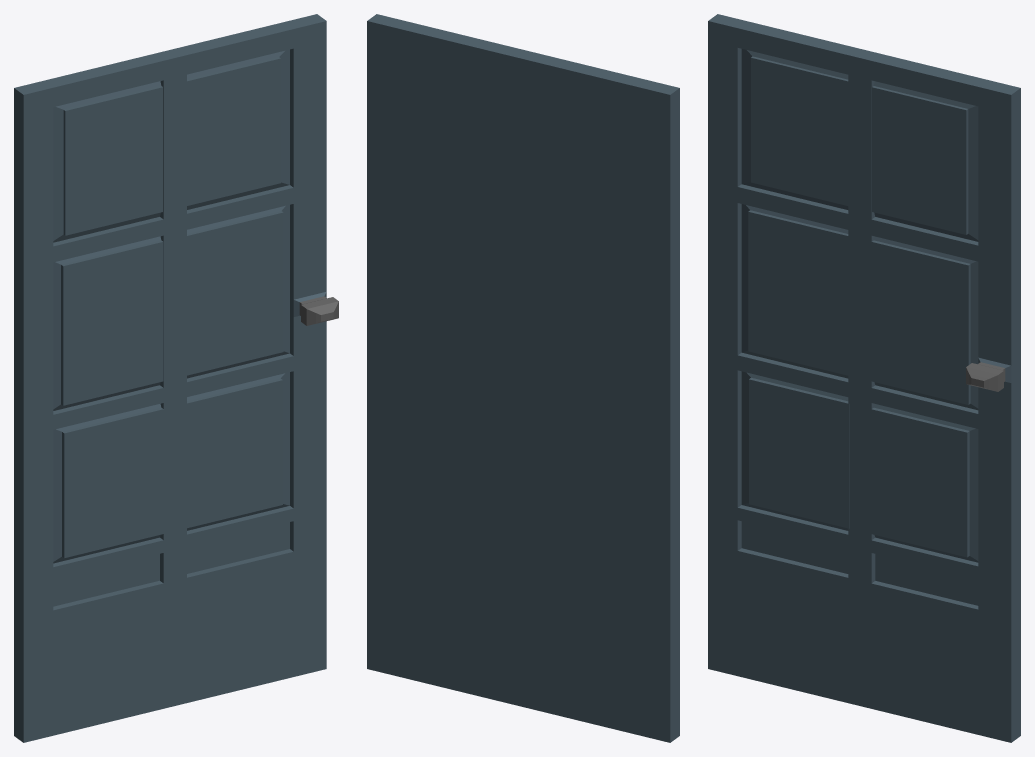
Rendered from Door.fbx.
The picture shows the model from 3 angles, left to right: view 1: azimuth 30°, elevation 25°; view 2: azimuth 150°, elevation 25°; view 3: azimuth 330°, elevation 25°; orthographic projection.
Visible parts, largest first — view 1: Cube.015; view 2: Cube.015; view 3: Cube.015.
Part boxes in pixels (x1,y1,x2,y2): Cube.015: [14, 14, 338, 742]; Cube.015: [367, 14, 679, 742]; Cube.015: [708, 14, 1020, 742].
Size of the model in its own units: 299 by 612 by 45.59.
